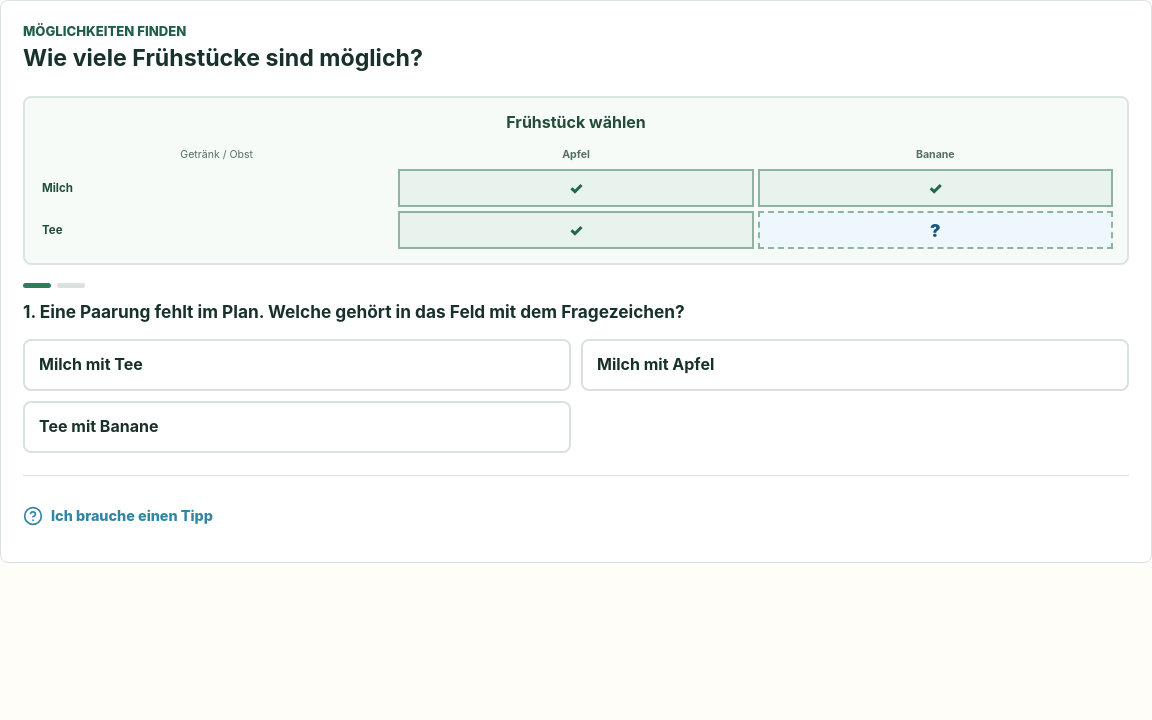
it: ExerciseCard › ergänzt eine fehlende Kombinationspaarung, bevor die Anzahl abgefragt wird
Expected: the text with class "combination-cell--missing" reads "?", [930,220,941,241]
Click the button "Tee mit Banane".
click(99, 426)  # box [23,401,571,453]
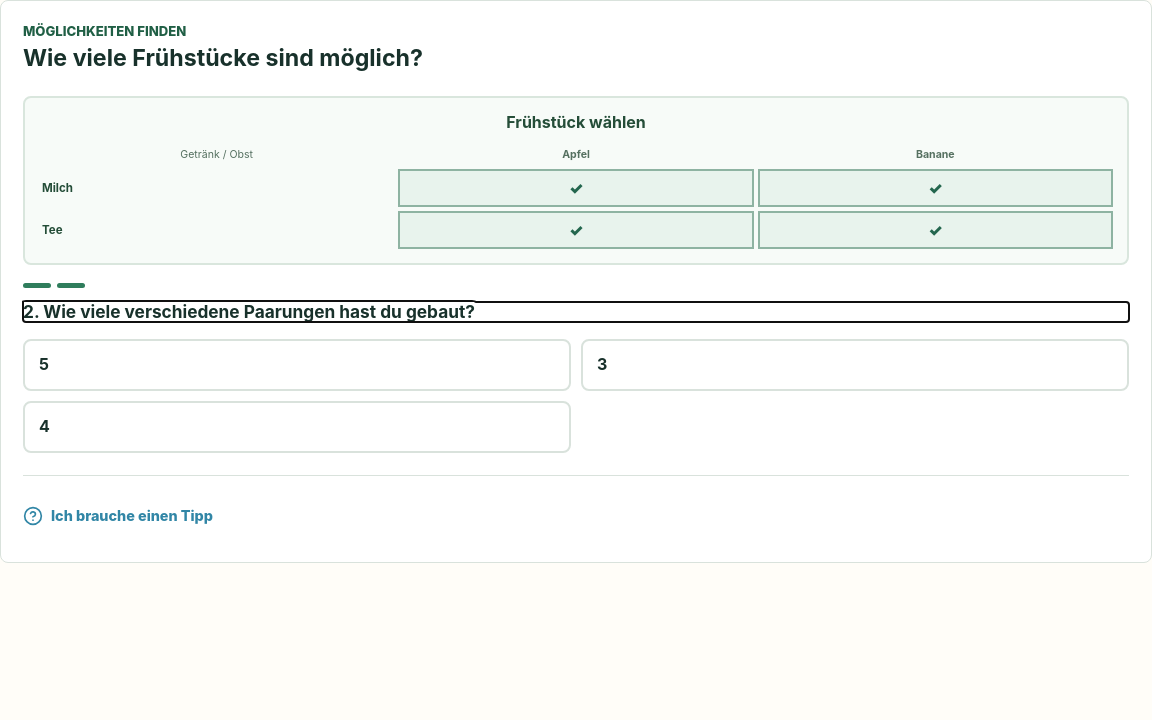
Now the heading "2. Wie viele verschiedene Paarungen hast du gebaut?" is shown, box [23,301,475,322]
